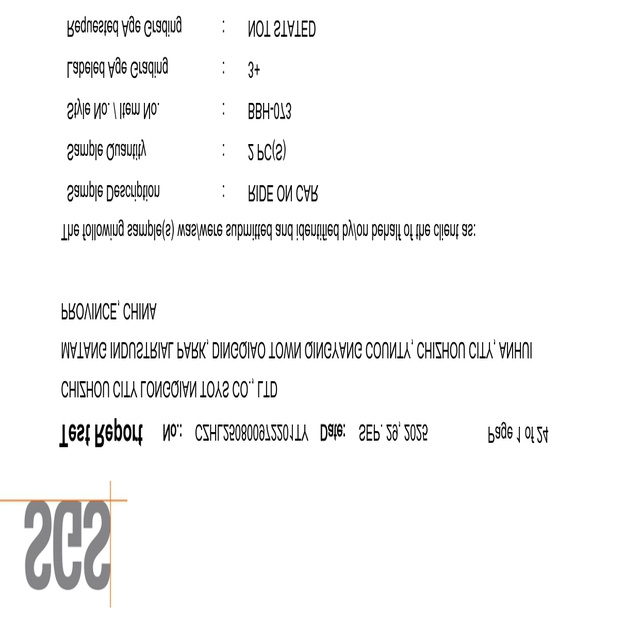sgs: (24, 501, 111, 590)
